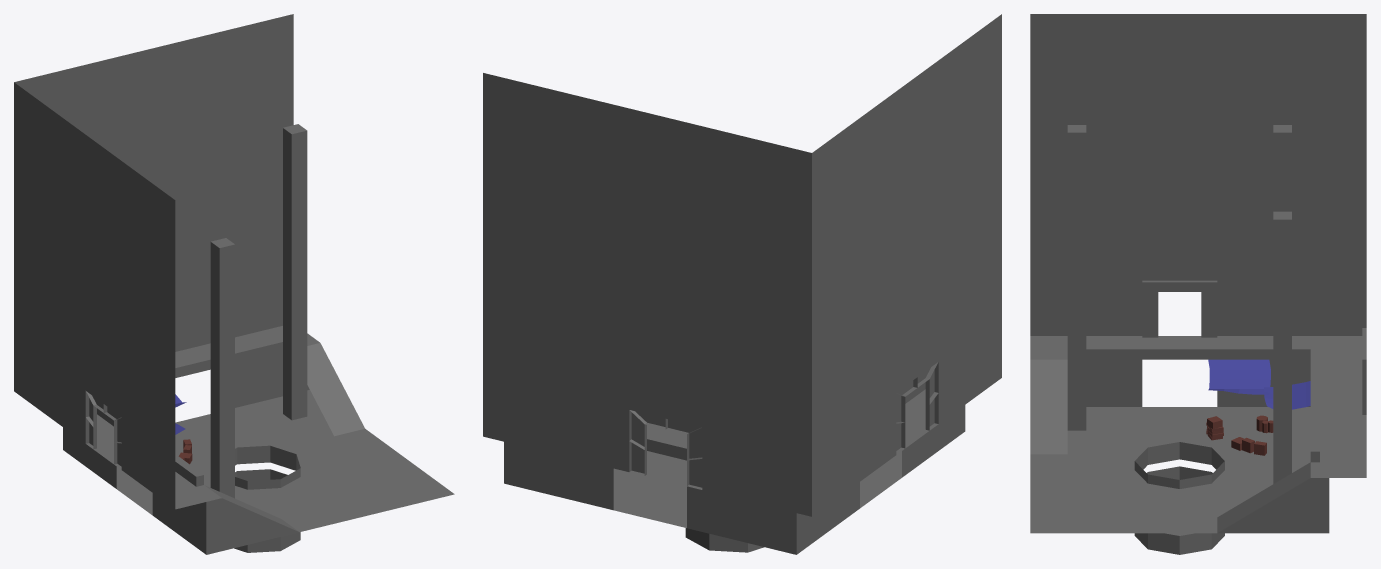
Rendered from concept (2).fbx.
The picture shows the model from 3 angles, left to right: view 1: azimuth 30°, elevation 25°; view 2: azimuth 150°, elevation 25°; view 3: azimuth 270°, elevation 25°; orthographic projection. The views are drawn at different scales.
Parts seen in each view (by area): view 1: Plane; view 2: Plane; view 3: Plane, Plane.002, Plane.001.
Part boxes in pixels (bbox=[...]): Plane: bbox=[14, 14, 454, 554]; Plane: bbox=[483, 14, 1001, 554]; Plane: bbox=[1030, 14, 1366, 554]; Plane.002: bbox=[1208, 359, 1270, 394]; Plane.001: bbox=[1264, 381, 1310, 409].
Size of what is drawn, in the model's own units: 703 by 1022 by 703.
